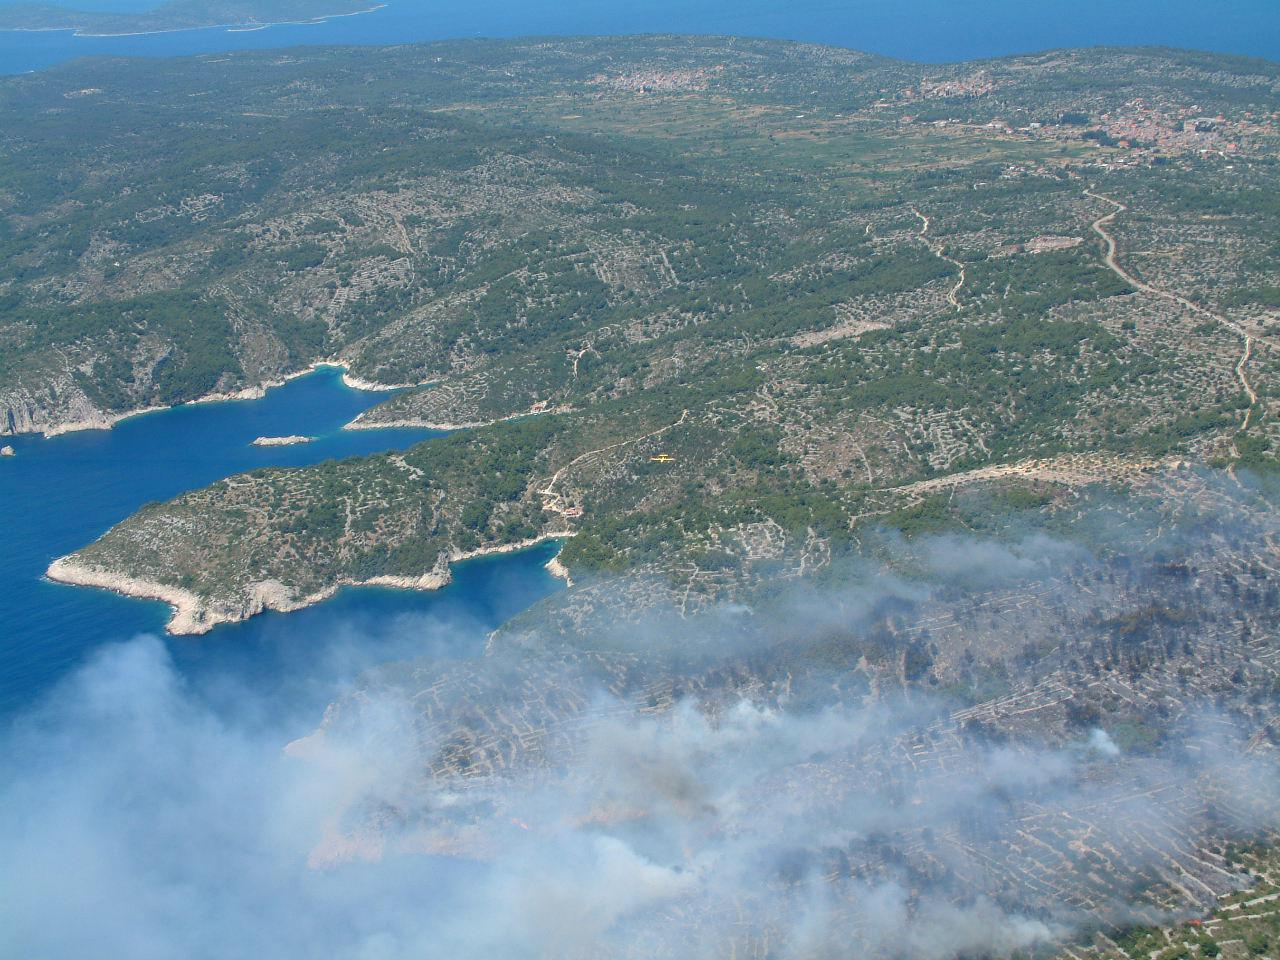Smoke: (303, 676, 1161, 960)
